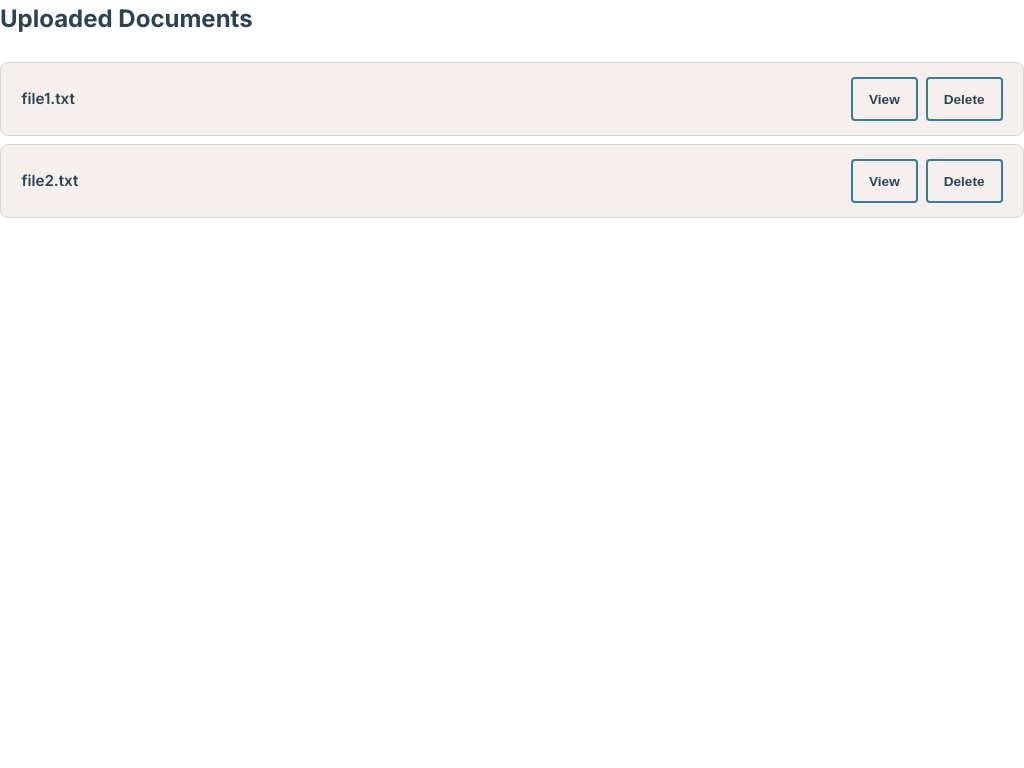
Test: DocumentsPage Integration Tests › deletes document when confirmed
Expected: the text "file1.txt" is shown, 22,87 -> 75,112
Click the button with aria-label "Delete document: file1.txt".
click(964, 99)  # box 926,77 -> 1002,121
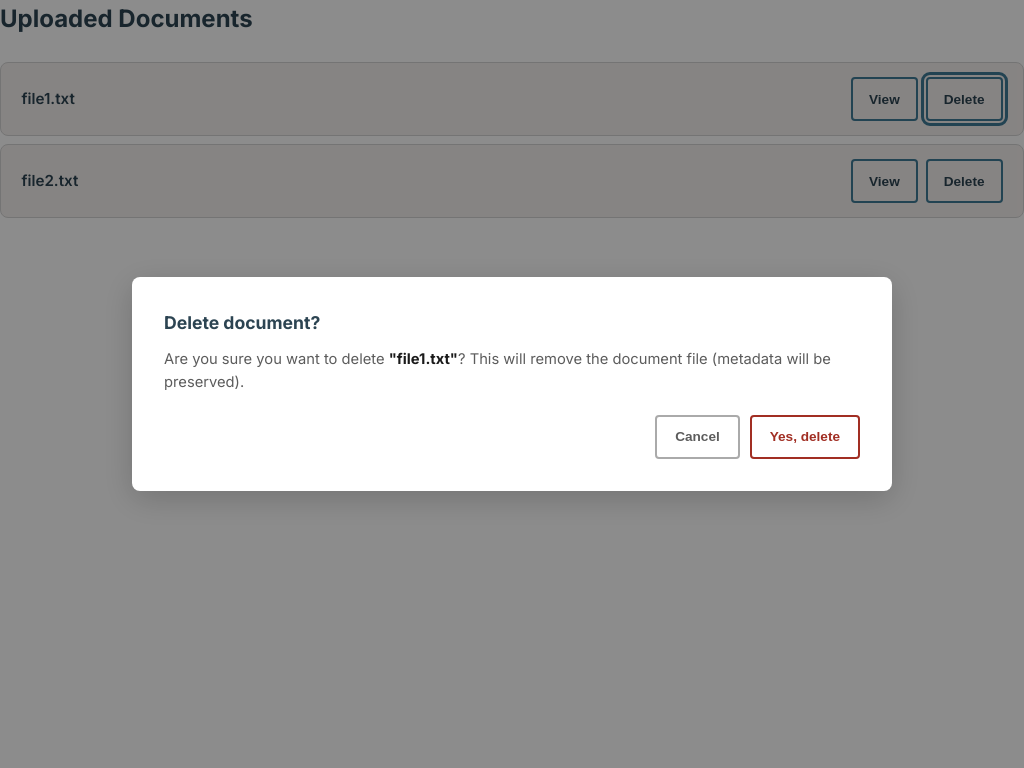
Result: the dialog is shown at 132,277 -> 892,491
Click the button named "Confirm delete \"file1.txt\"".
click(805, 437)  # box 750,415 -> 860,459
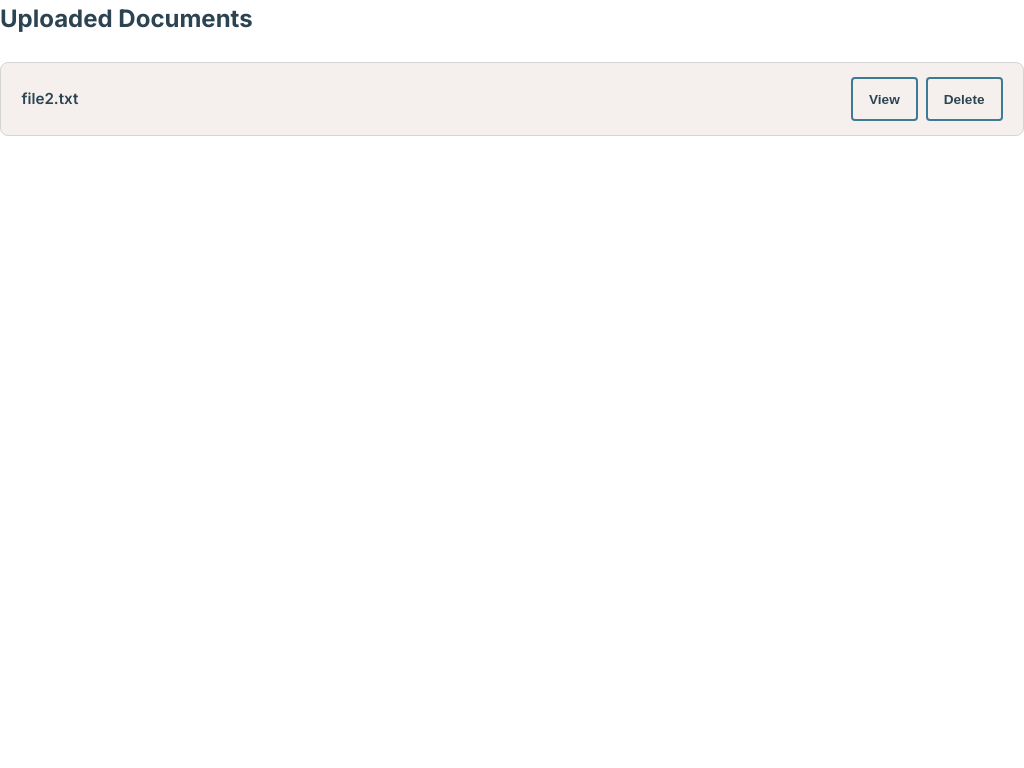
Result: the dialog is gone
Result: the text "file1.txt" is gone
